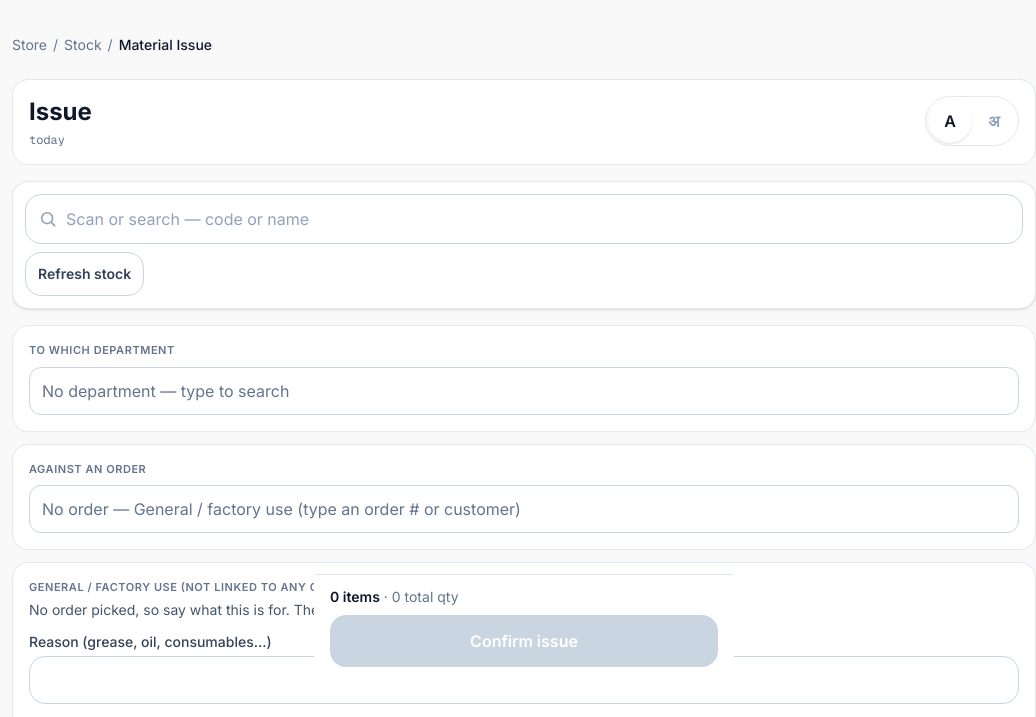
Scenario: R2-353 picking "None" on the order list closes it and shows General / factory use › the list closes and the General-use block appears
Focus the dropdown labelled "order" at (524, 509), box left=29, top=485, right=1019, bottom=533
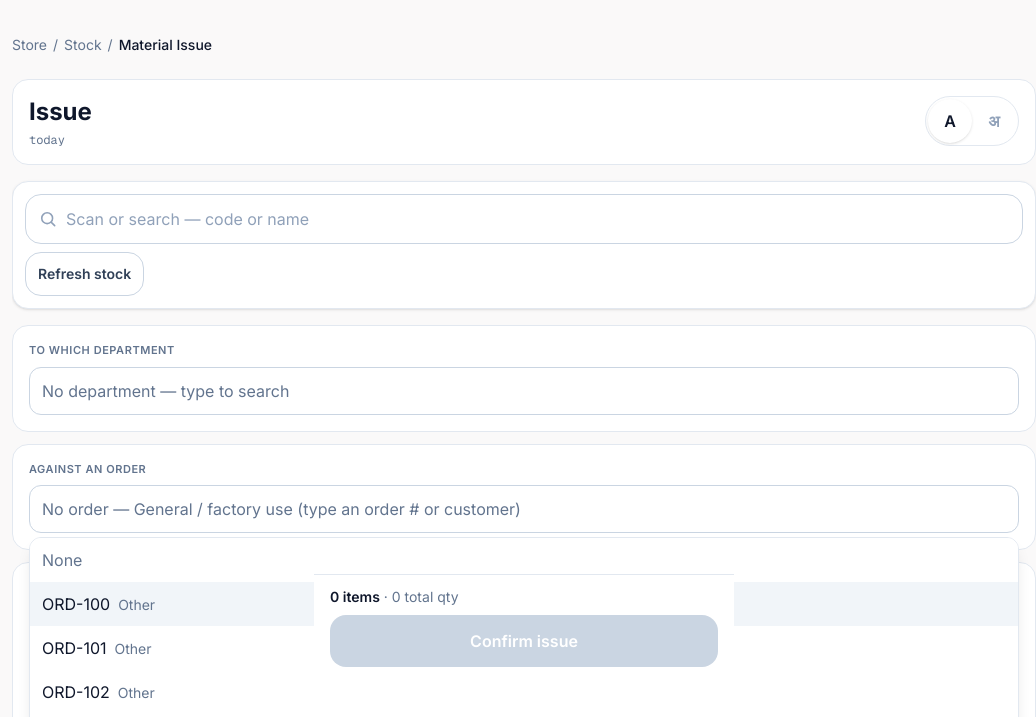
Press the mouse on the option "ORD-100Other" at (76, 604), box left=30, top=582, right=1018, bottom=626
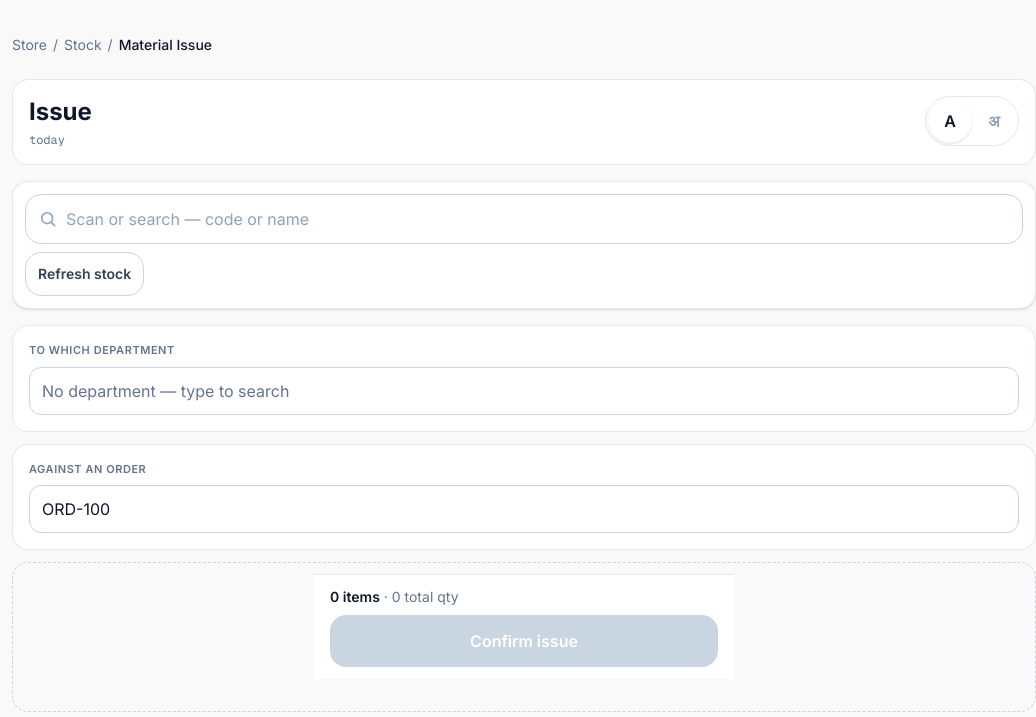
Expected: the text "General / factory use (" is not shown
Focus the dropdown named "Order" at (524, 509), box left=29, top=485, right=1019, bottom=533
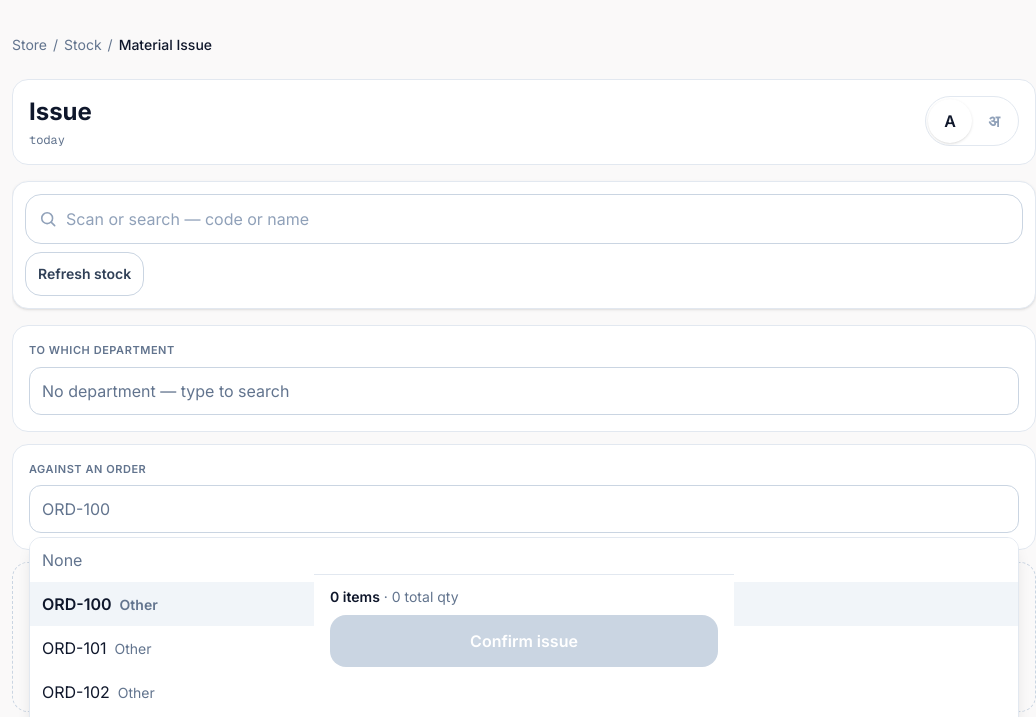
Press the mouse on the option "None" at (62, 560), box left=42, top=550, right=82, bottom=570
(page scrolled)
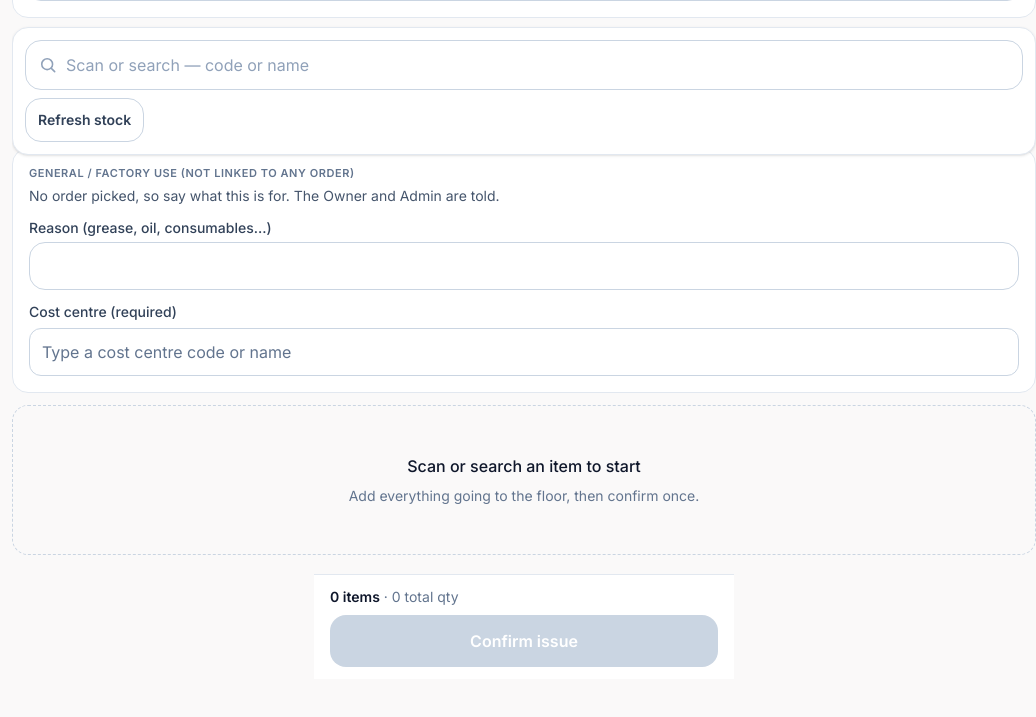
Now the text "General / factory use (not linked to any order)" is shown, box left=29, top=166, right=354, bottom=180
Now the dropdown labelled "Cost centre (required)" is shown, box left=29, top=328, right=1019, bottom=376
